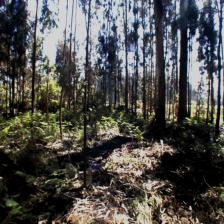trunktrack_idkeyframe: (154, 8, 166, 126), (177, 30, 188, 121), (214, 69, 221, 135), (31, 28, 36, 113), (58, 84, 64, 140), (83, 112, 87, 185)
